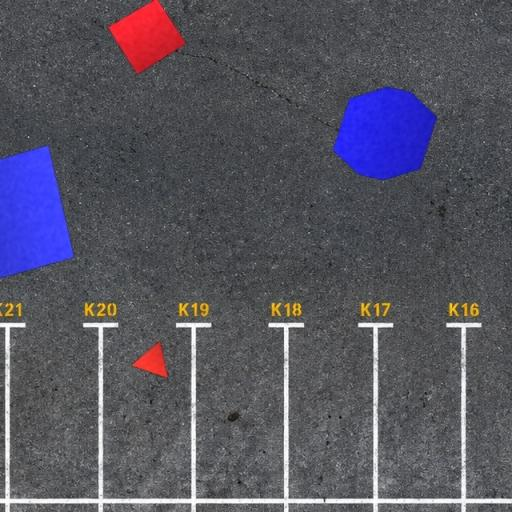BLUE_SQUARE: (0, 144, 75, 285)
RED_SQUARE: (106, 0, 188, 76)
